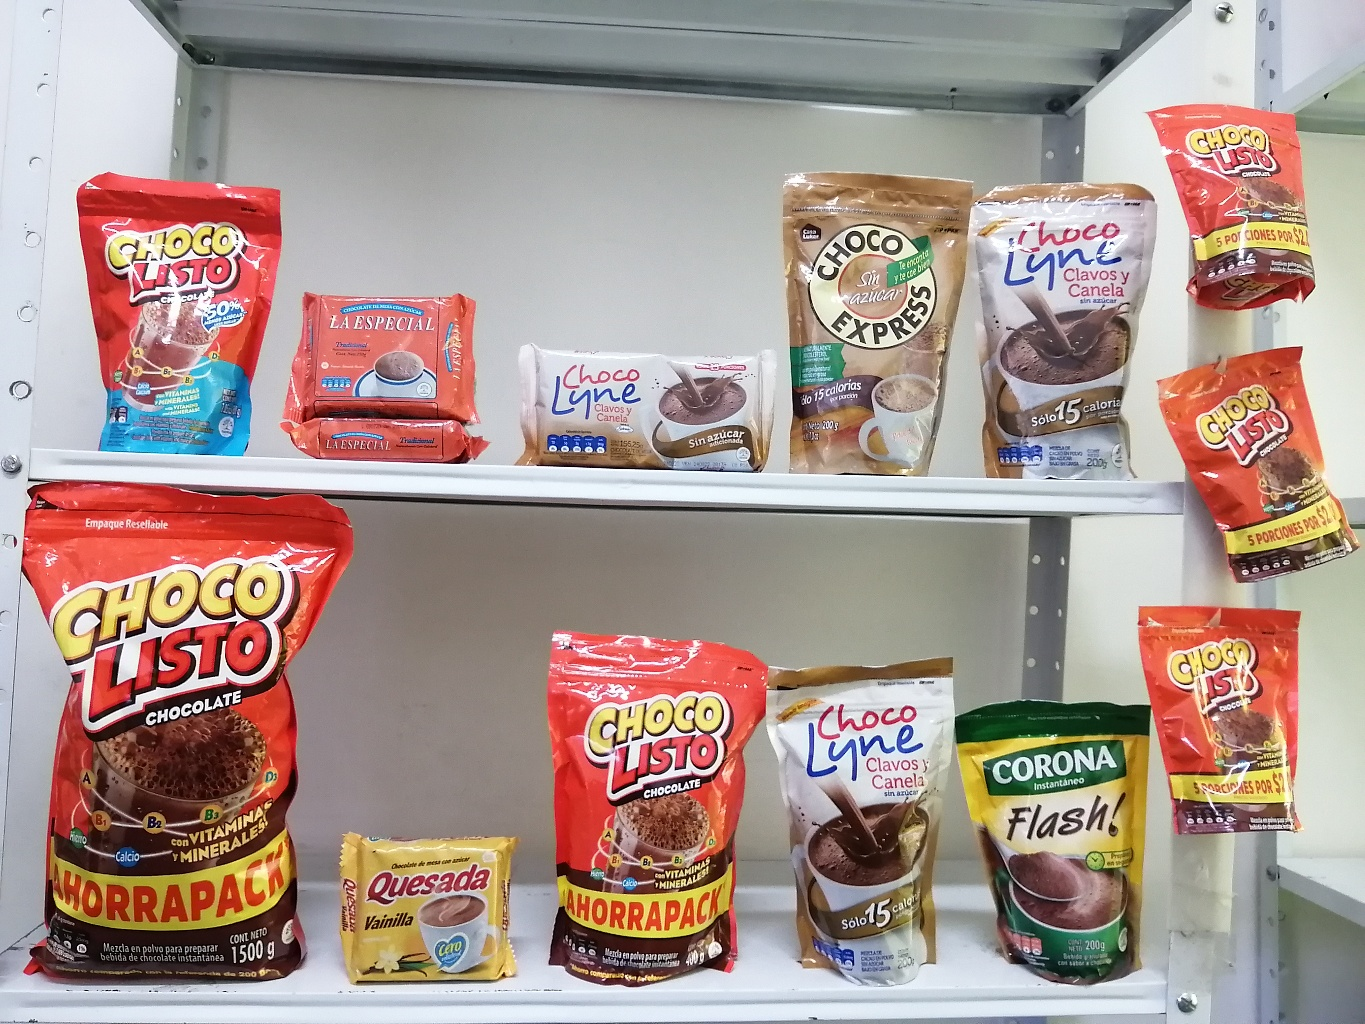COL0170103DYP1,500: (3, 469, 352, 997)
COL0170103DYP10000: (1141, 90, 1330, 308)
COL0170103DYP40000: (531, 615, 790, 1001)
COL0170104DYP20000: (62, 155, 289, 459)
